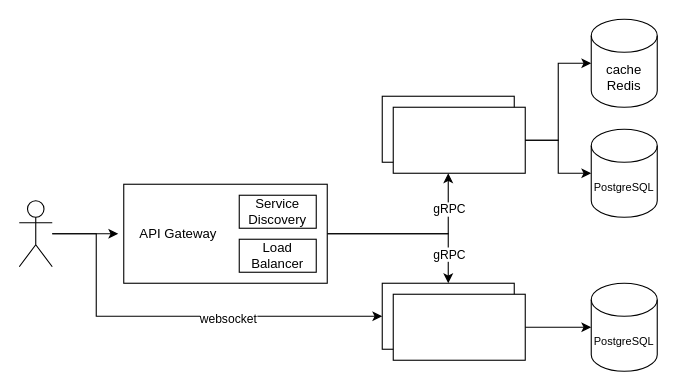
Image size: 677x391. Some labels were removed from this diagram. Each missing label, with the centre of its shape:
Game service: point 458,139
Lobby Service: point 458,326
User: point 35,233
